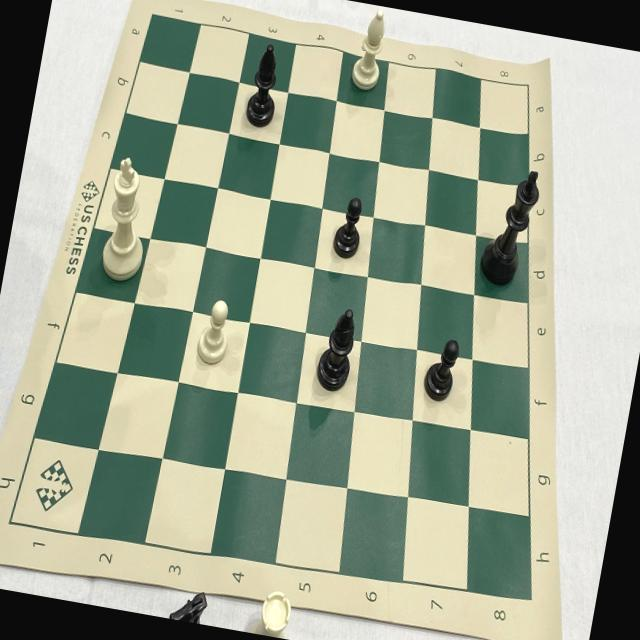bishop: (310, 301, 368, 398)
black-bishop: (240, 32, 293, 138)
black-king: (474, 150, 552, 295)
black-pawn: (417, 328, 464, 410), (328, 187, 369, 262)
white-bishop: (344, 2, 396, 100)
white-king: (85, 145, 162, 292)
white-pawn: (188, 287, 242, 373)
